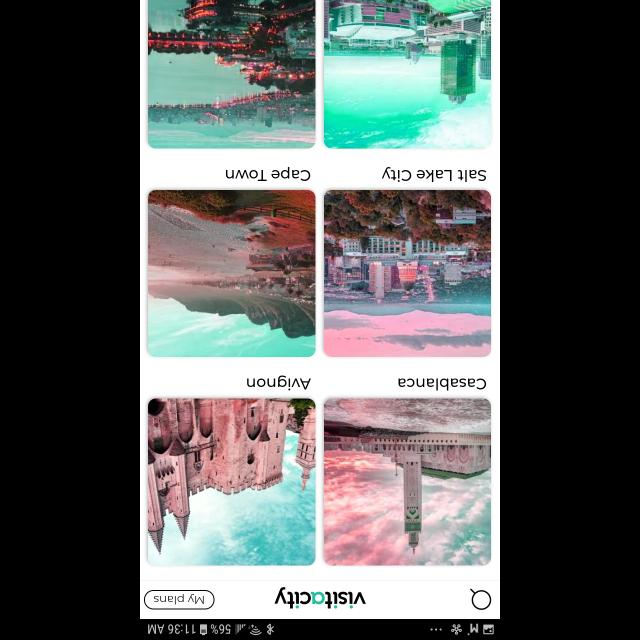icon: (469, 588, 491, 610)
image: (148, 398, 316, 566), (324, 398, 491, 566), (148, 190, 316, 356), (324, 190, 491, 356), (148, 0, 316, 148), (324, 0, 491, 148), (274, 586, 366, 608)
text: (382, 166, 486, 182), (226, 166, 310, 182), (398, 378, 486, 390), (247, 374, 311, 390)
textbutton: (143, 589, 214, 609)
uppertaskbar: (140, 618, 500, 640)
